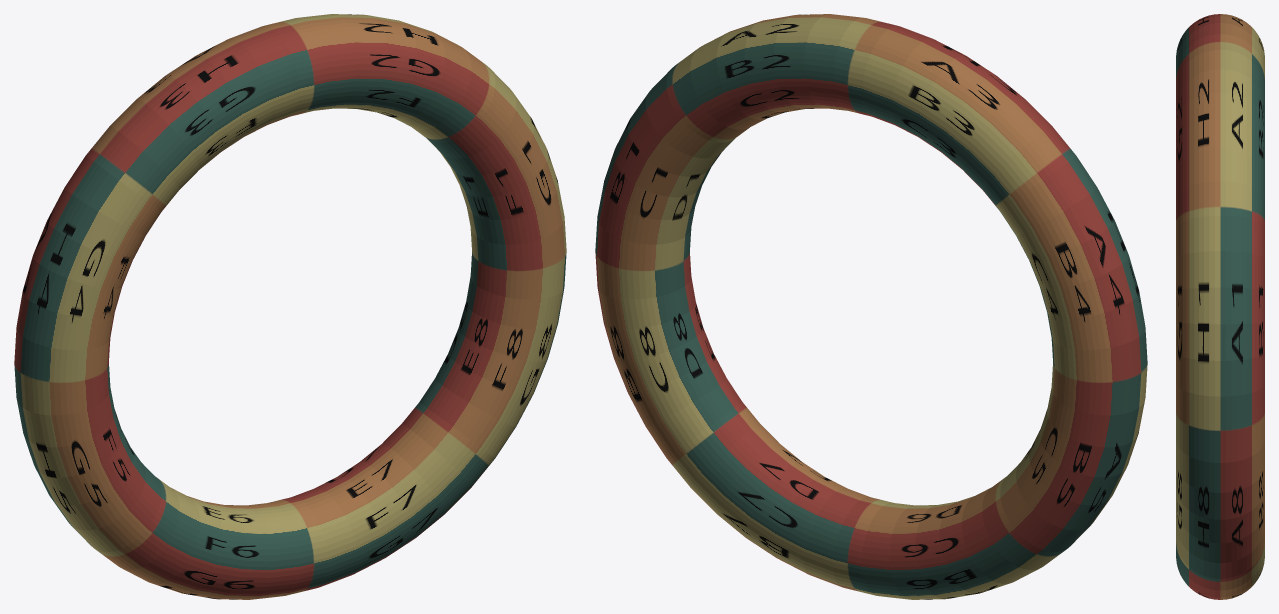
Rendered from texture_torus_R4_r1.glb.
The picture shows the model from 3 angles, left to right: view 1: azimuth 30°, elevation 25°; view 2: azimuth 150°, elevation 25°; view 3: azimuth 270°, elevation 25°; orthographic projection. The views are drawn at different scales.
Parts seen in each view (by area): view 1: world; view 2: world; view 3: world.
Boxes of the visible parts, x1,y1,x2,y2 form: world: (14,14,566,599); world: (595,14,1147,599); world: (1176,14,1264,599).
Bounding box in the file's own units: 14.93 × 14.9 × 2.26.
Materials: 1 (1 with a texture image).
